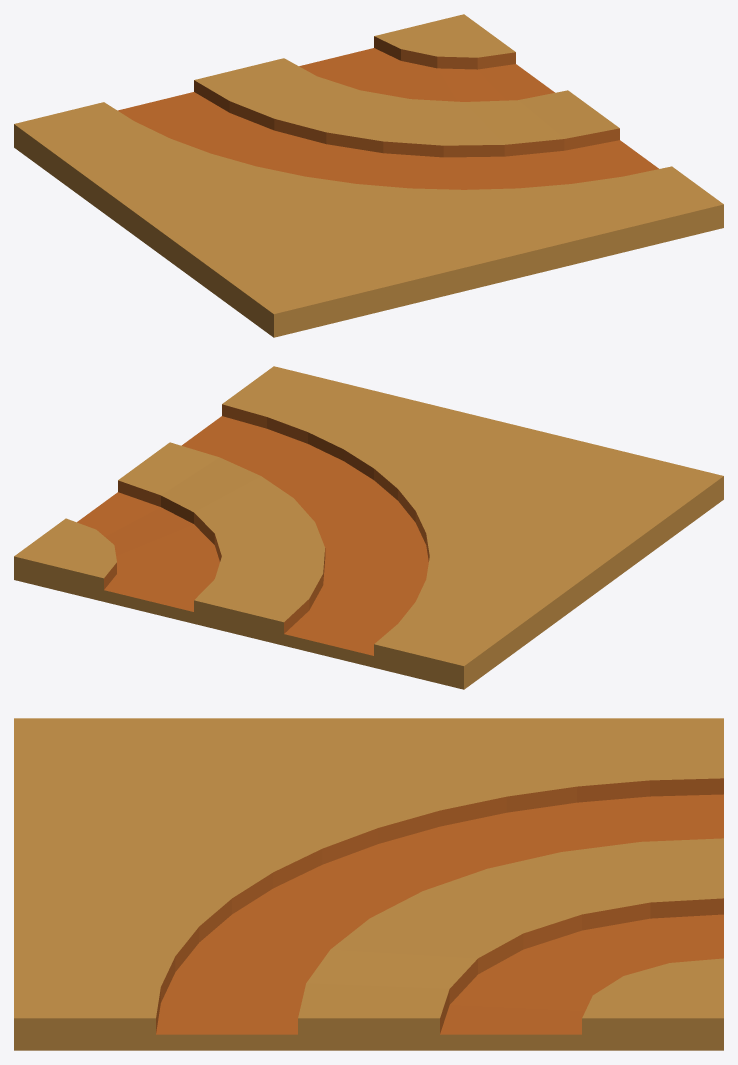
The model's file is Tile_Dirt_Road_Corner.fbx.
3 views of the same model, one above another, from view 1: azimuth 30°, elevation 25°; view 2: azimuth 150°, elevation 25°; view 3: azimuth 270°, elevation 25° (orthographic). The views are drawn at different scales.
Visible parts, largest first — view 1: Tile_Dirt_Road_Corner; view 2: Tile_Dirt_Road_Corner; view 3: Tile_Dirt_Road_Corner.
Part boxes in pixels (box(x1,y1,x2,y2)): Tile_Dirt_Road_Corner: box(14, 14, 723, 337); Tile_Dirt_Road_Corner: box(14, 366, 723, 689); Tile_Dirt_Road_Corner: box(14, 718, 723, 1050).
Size of the model in its own units: 100 by 5 by 100.
